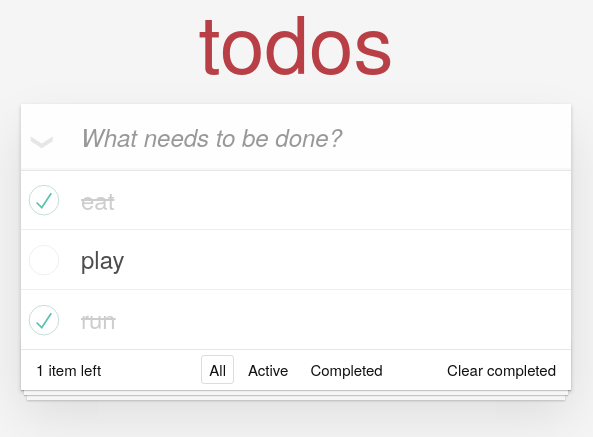
it: 切换所有任务的完成状态 › 当所有的任务已完成的时候,全选按钮应该被选中,否则不选中
Click the checkbox with test id "todo-done" at (296, 260), box left=21, top=230, right=571, bottom=289
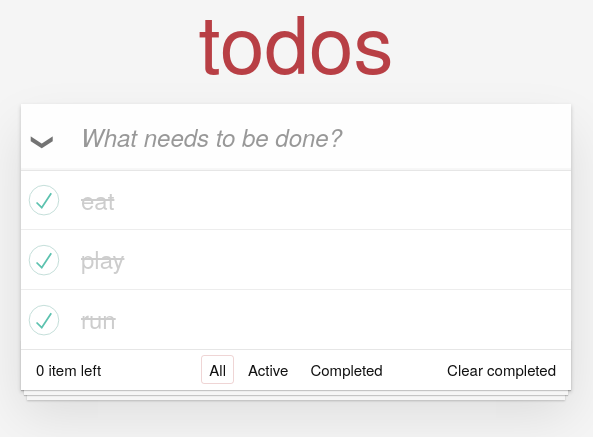
Now the checkbox with test id "toggle-all" is checked, box left=21, top=106, right=55, bottom=166
Note: 取消选中任意选项
Click the checkbox with test id "todo-done" at (296, 200), box left=21, top=171, right=571, bottom=229
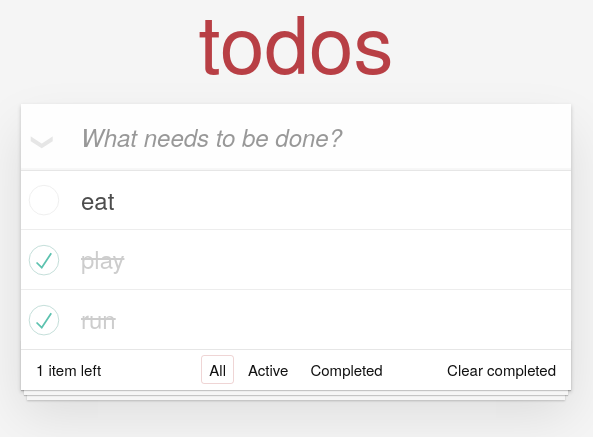
Now the checkbox with test id "toggle-all" is not checked, box left=21, top=106, right=55, bottom=166
